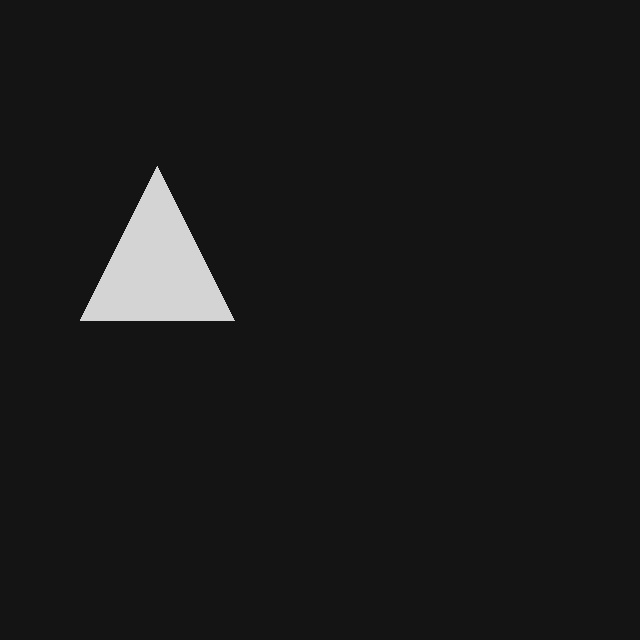triangle: (80, 166, 234, 320)
